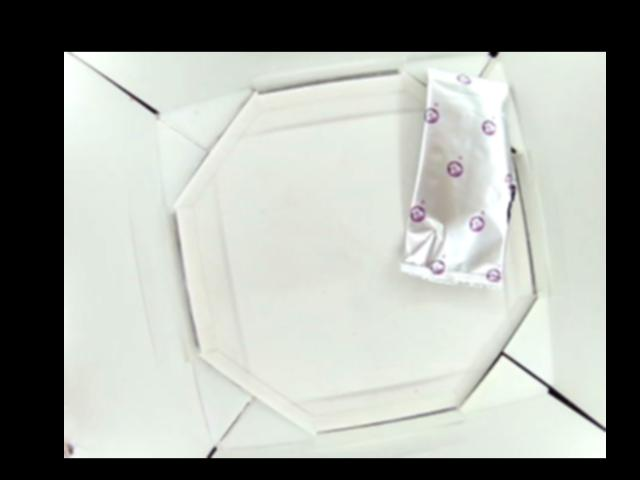Medicine: (398, 70, 519, 291)
